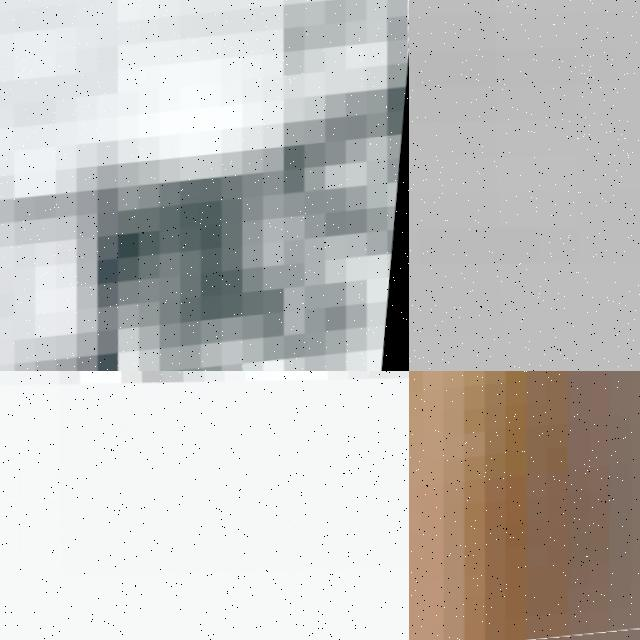0: (0, 0, 409, 371)
drone: (409, 371, 640, 640)
